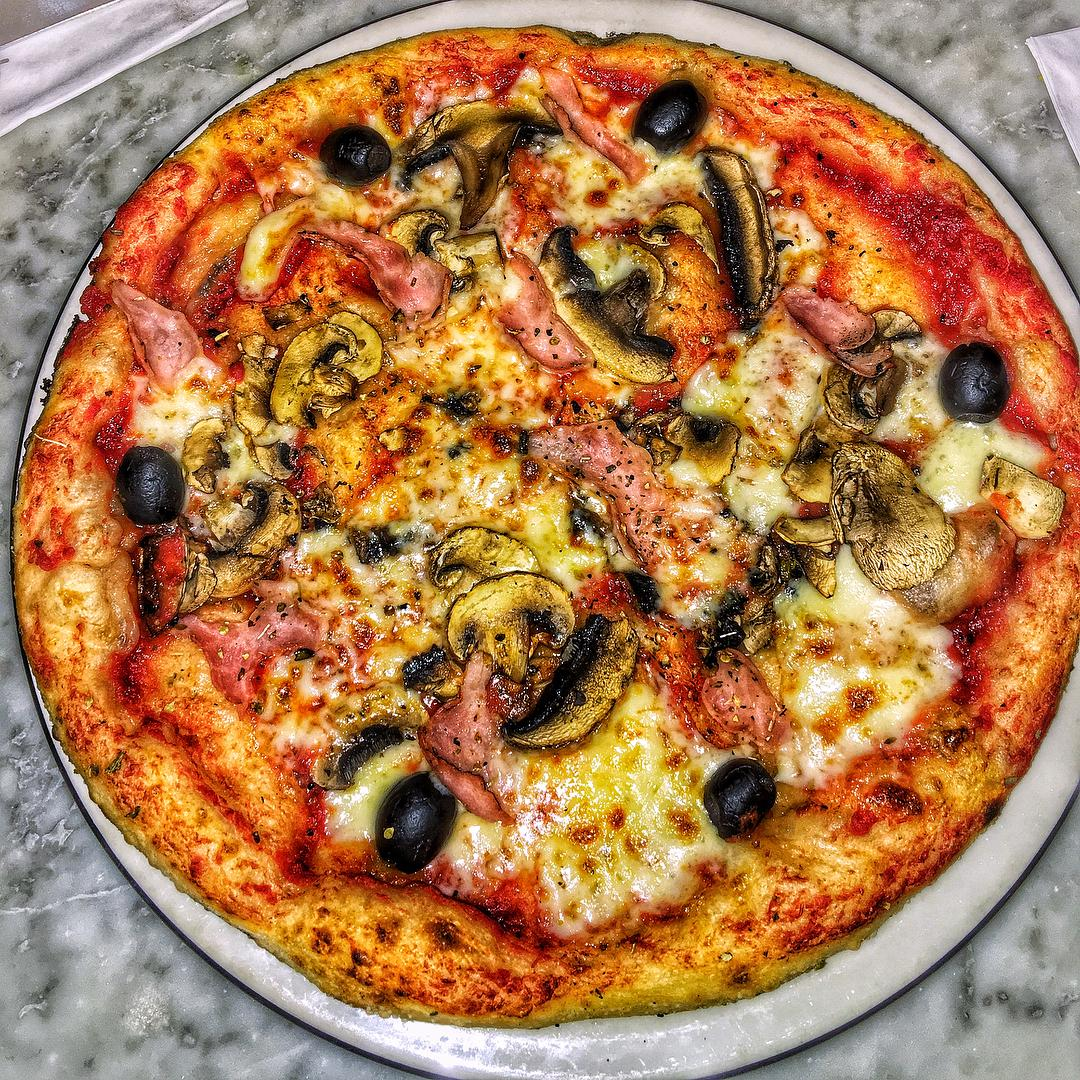Ham: (521, 410, 684, 576), (167, 585, 331, 710), (414, 638, 517, 834), (294, 212, 455, 322), (469, 245, 598, 378), (534, 58, 659, 193), (96, 273, 223, 398), (685, 639, 791, 750), (774, 272, 880, 368)
Mushroom: (399, 77, 575, 236), (534, 216, 683, 392), (497, 607, 645, 760), (830, 436, 961, 593), (264, 296, 390, 438), (171, 492, 306, 621), (700, 129, 778, 337), (176, 373, 298, 503), (440, 565, 579, 678), (889, 505, 1020, 623), (305, 682, 432, 801), (828, 301, 928, 436), (703, 538, 802, 667), (376, 205, 509, 287), (423, 511, 551, 594), (976, 446, 1070, 545), (784, 407, 861, 522), (383, 624, 475, 707), (639, 191, 727, 274), (779, 501, 845, 599)
Olives: (365, 758, 461, 883), (627, 68, 712, 174), (108, 428, 190, 536), (701, 750, 783, 847), (942, 337, 1014, 434), (312, 120, 397, 202)
Pizza: (3, 26, 1080, 1032)
